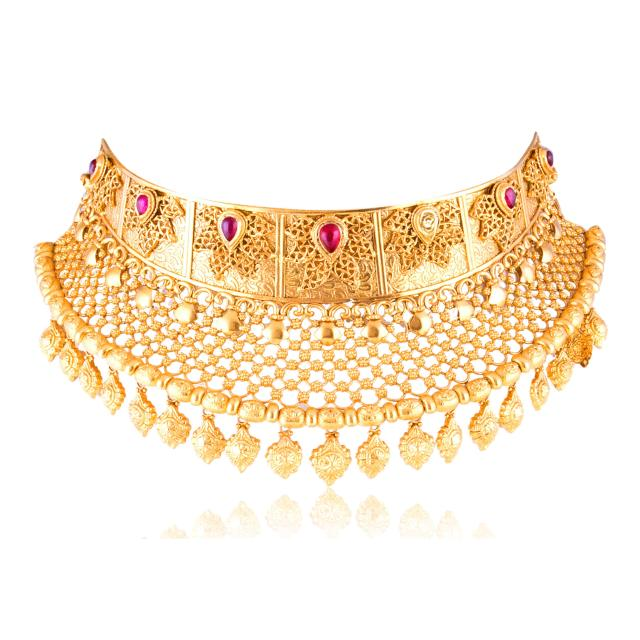missing gem: (417, 209, 437, 243)
